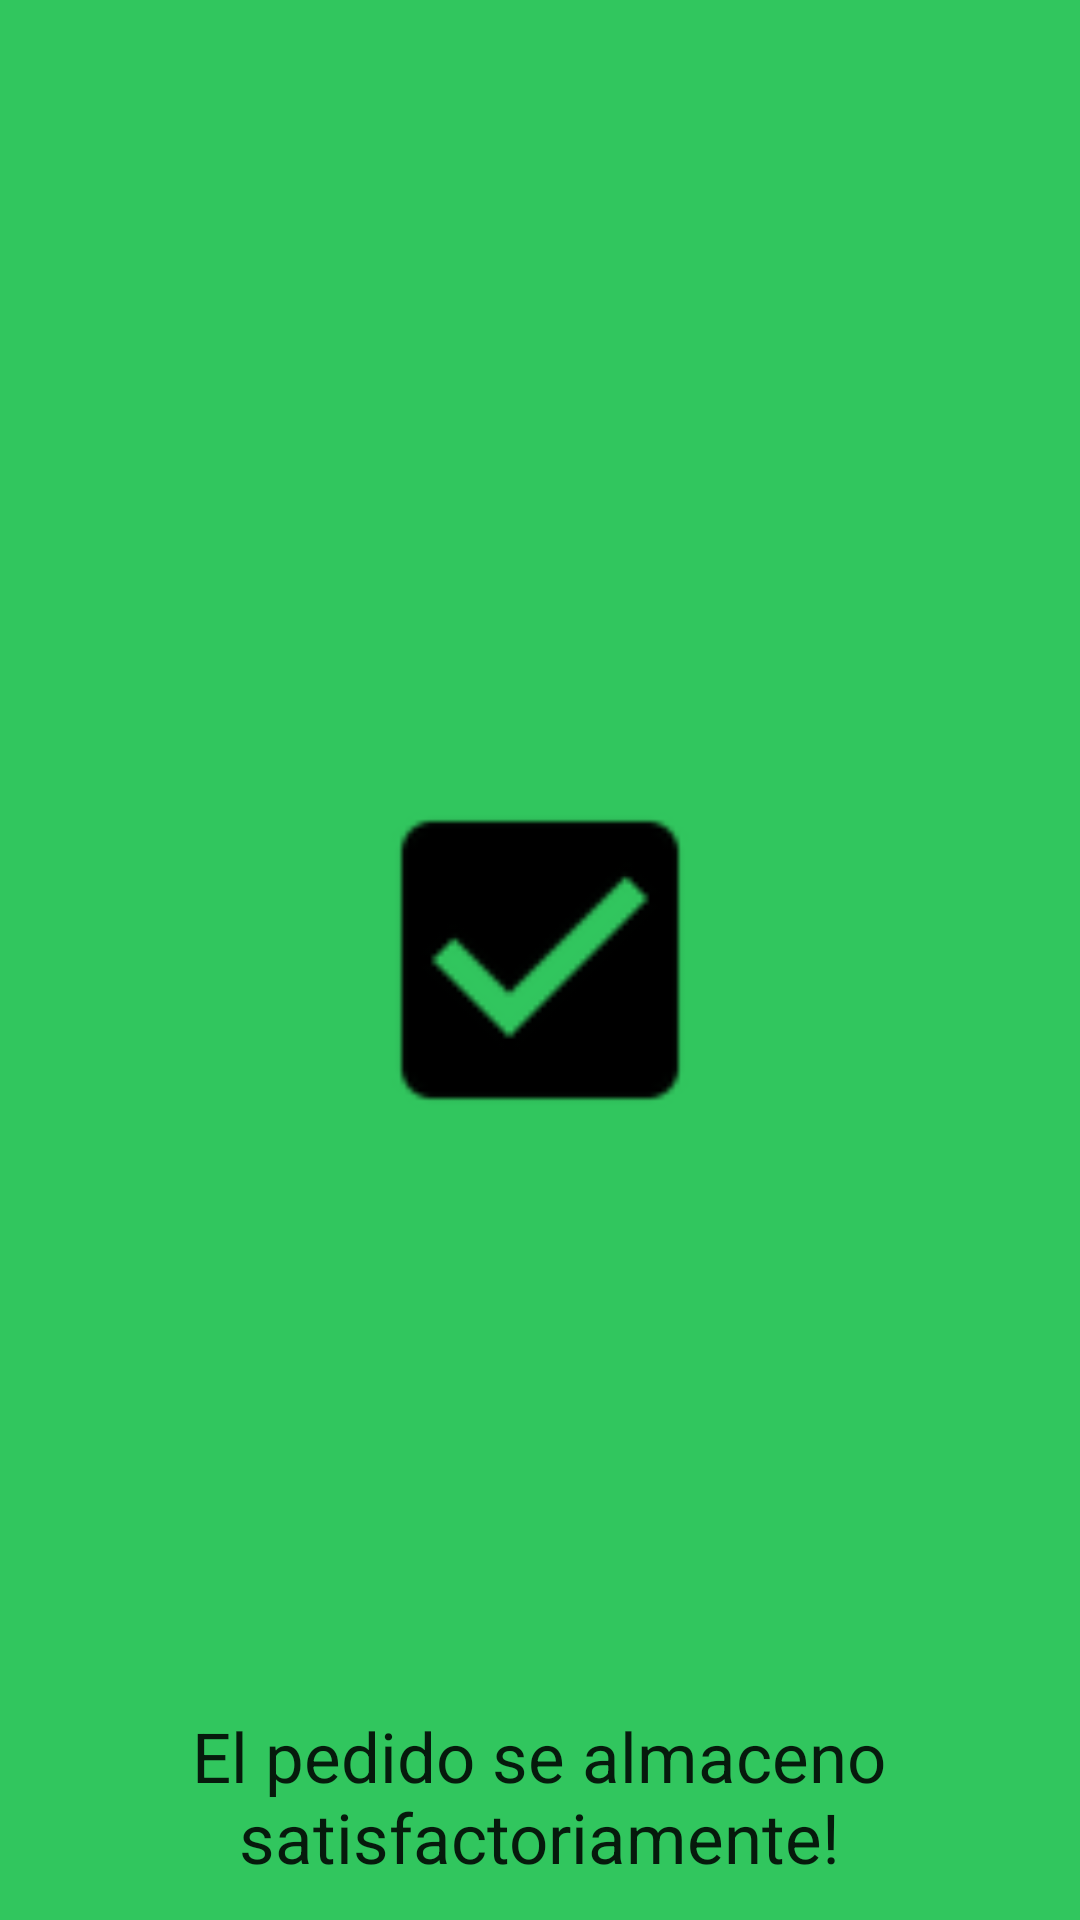

Screen size 1080 × 1920. Icon name, then its center in pixels as (x,y):
check to on: (540,960)
